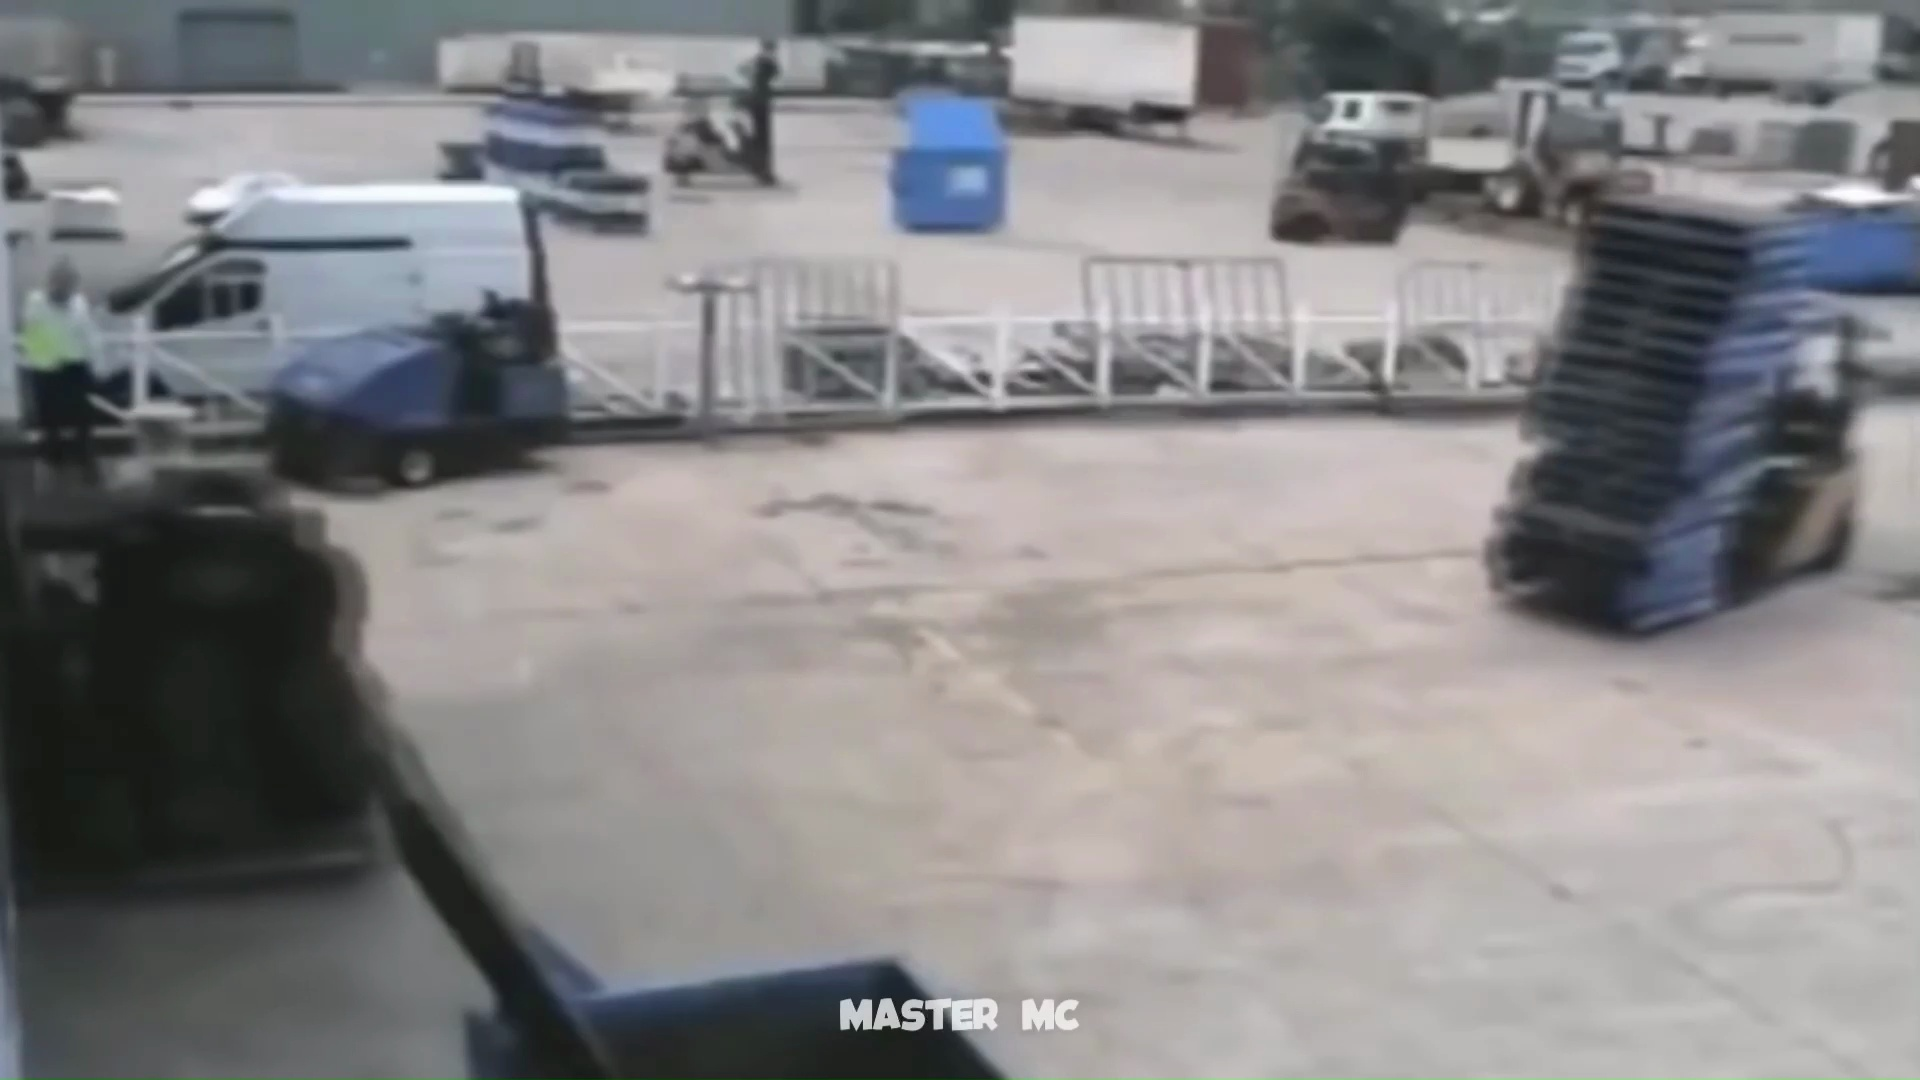forklift: (1473, 196, 1866, 634), (12, 459, 367, 891)
